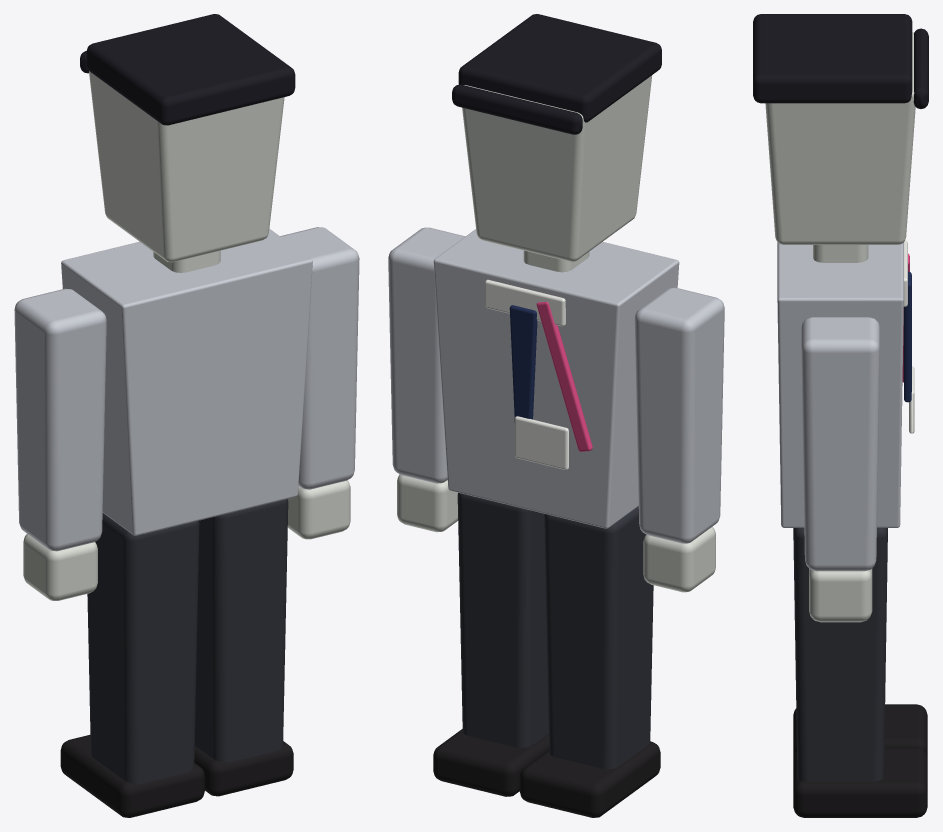
File: staff.glb
3 views of the same model, side by side, from view 1: azimuth 30°, elevation 25°; view 2: azimuth 150°, elevation 25°; view 3: azimuth 270°, elevation 25° (orthographic). The views are drawn at different scales.
Visible parts, largest first — view 1: Torso, Head, LegL, ArmL, LegR, ArmR, NeckMesh; view 2: Torso, Head, LegL, LegR, ArmL, ArmR, NeckMesh; view 3: Head, LegR, ArmR, Torso, LegL, NeckMesh.
Part boxes in pixels (x1,y1,x2,y2): Torso: (61,228,312,535); Head: (80,14,295,262); LegL: (60,513,204,817); ArmL: (14,288,106,600); LegR: (194,499,293,796); ArmR: (280,227,359,539); NeckMesh: (153,250,220,272); Torso: (433,229,679,528); Head: (452,14,661,261); LegL: (519,506,660,817); LegR: (433,493,549,796); ArmL: (634,287,724,592); ArmR: (388,227,465,532); NeckMesh: (523,250,589,272); Head: (753,14,928,244); LegR: (793,528,927,817); ArmR: (801,317,879,622); Torso: (777,240,914,527); LegL: (793,704,927,757); NeckMesh: (813,245,868,262).
Size of the model in its own units: 0.9192 by 2.05 by 0.4448.
